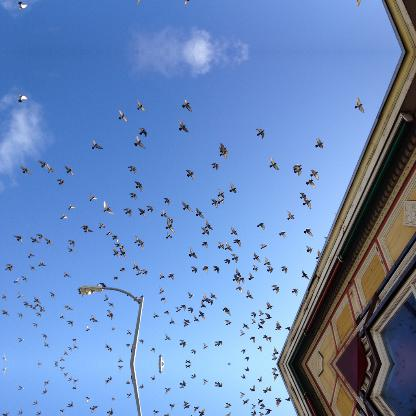Bird: (0, 100, 336, 362), (354, 95, 364, 113), (180, 98, 192, 112), (178, 118, 188, 132), (254, 126, 264, 138), (314, 137, 324, 149), (17, 1, 27, 12), (354, 0, 365, 10), (17, 92, 27, 102), (180, 0, 192, 7)
